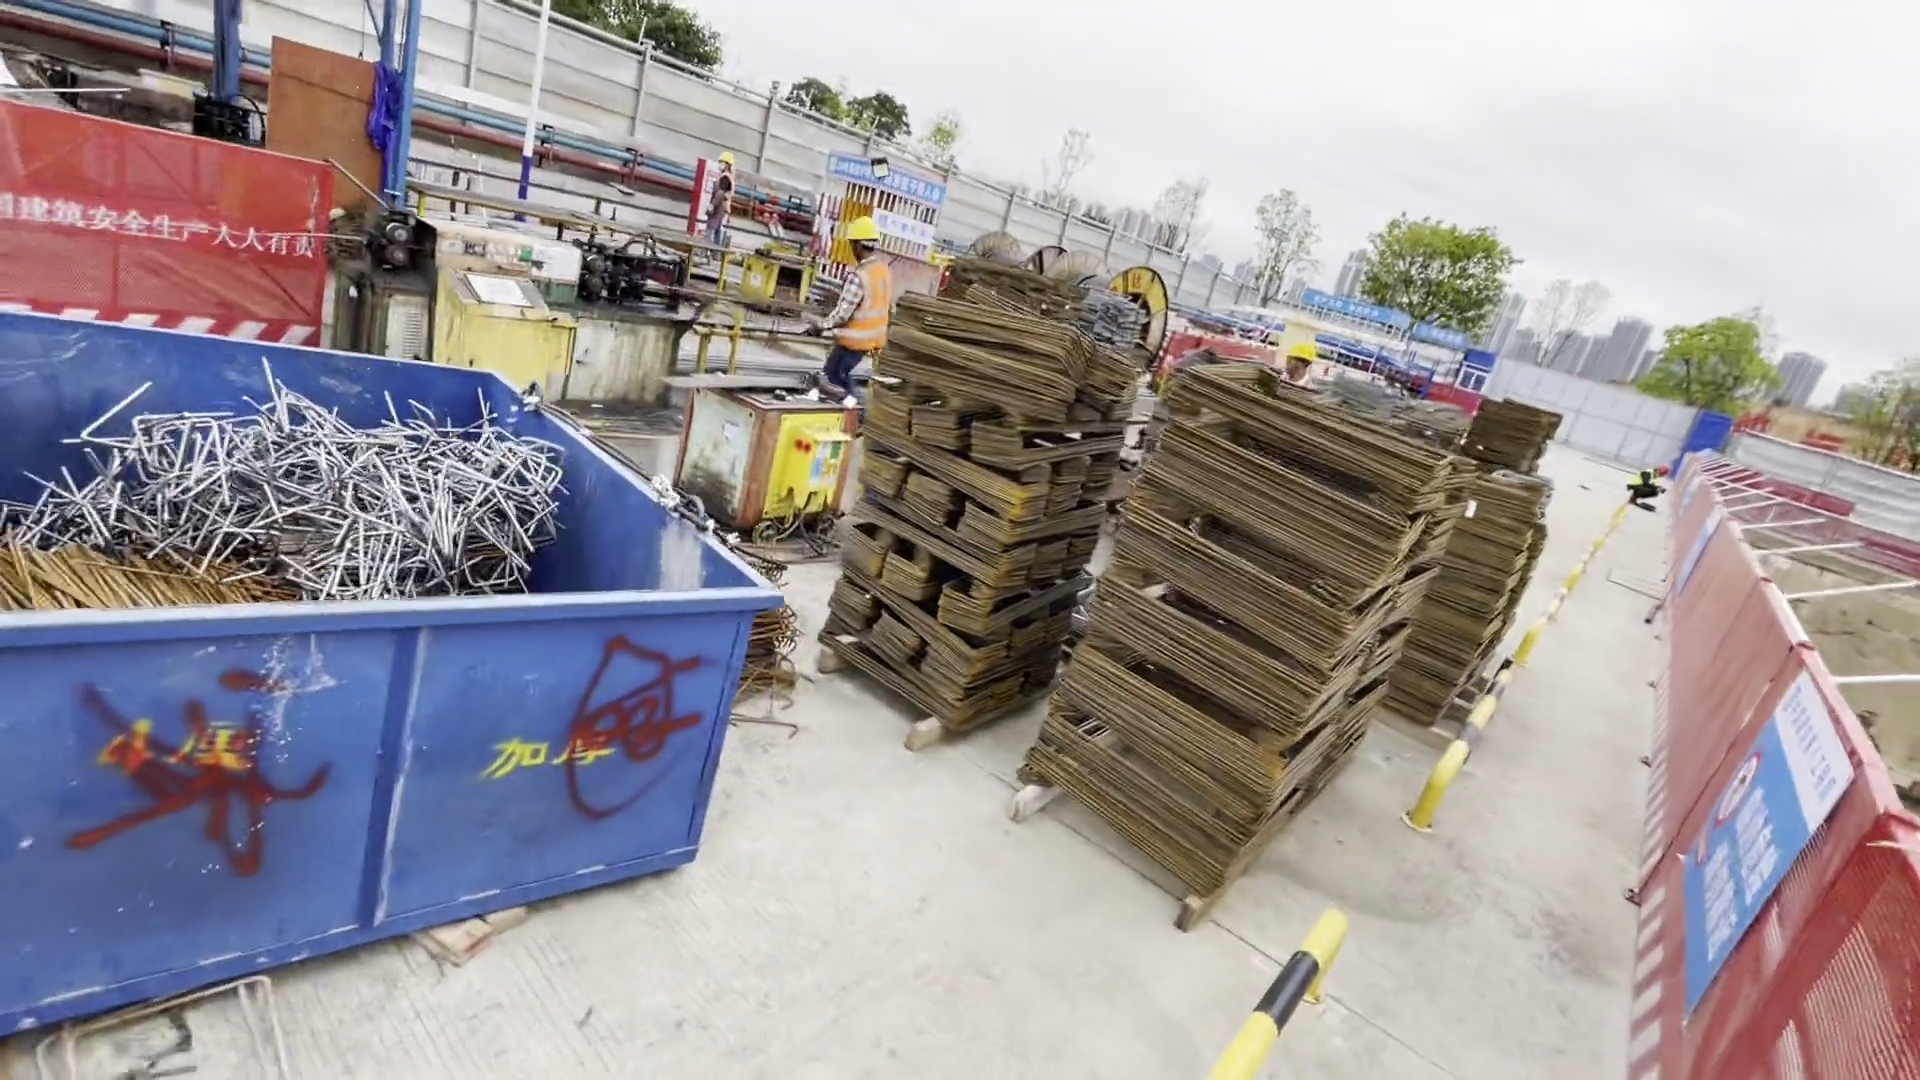helmet: (849, 218, 877, 242), (1282, 341, 1313, 361), (715, 153, 737, 165), (1658, 465, 1667, 477)
person: (818, 217, 879, 412), (713, 147, 734, 252), (1622, 461, 1668, 506), (1275, 344, 1318, 388)
vest: (836, 266, 903, 354), (1627, 471, 1653, 487)
